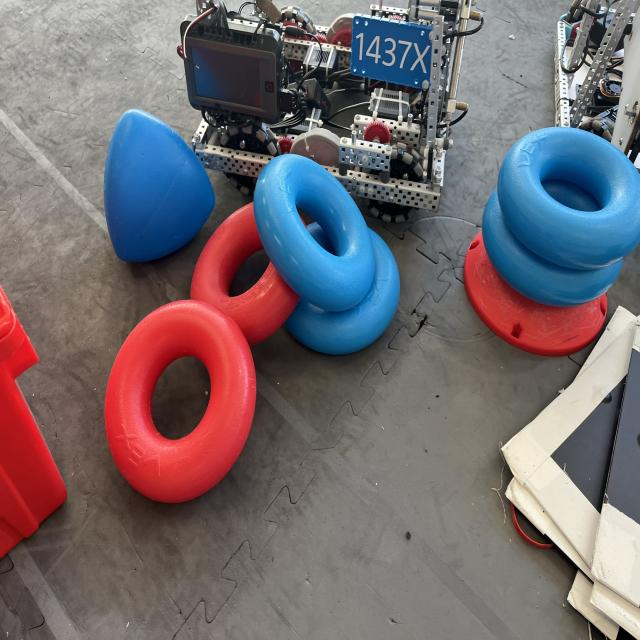Blue-Ring: (498, 127, 640, 270), (254, 155, 375, 312), (482, 188, 622, 307), (285, 230, 400, 355)
Red-Ring: (105, 300, 256, 503), (191, 203, 300, 345), (209, 333, 211, 337)
